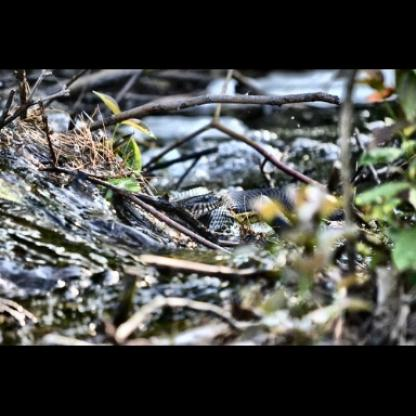Snake: (174, 181, 262, 234)
